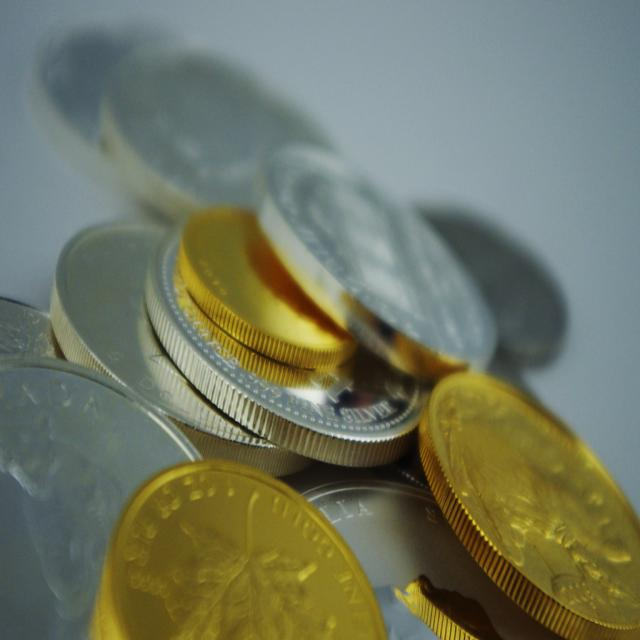Coin: (0, 15, 640, 639)
